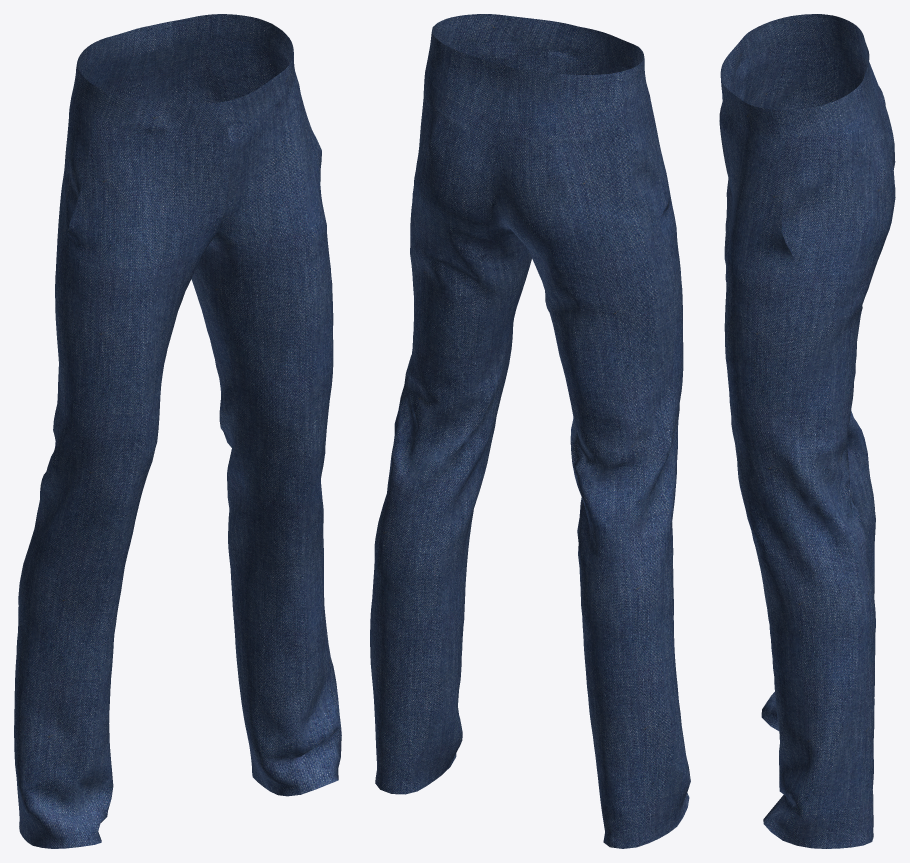
File: trouser.gltf
3 renders of one model, left to right at view 1: azimuth 30°, elevation 25°; view 2: azimuth 150°, elevation 25°; view 3: azimuth 270°, elevation 25°, orthographic. The views are drawn at different scales.
Parts seen in each view (by area): view 1: trouser; view 2: trouser; view 3: trouser.
Part boxes in pixels (box(x1,y1,x2,y2)): trouser: box(14, 14, 341, 848); trouser: box(370, 14, 690, 848); trouser: box(719, 14, 895, 848).
Bounding box in the file's own units: 47.29 × 110 × 24.08.
1 material, 1 textured.
